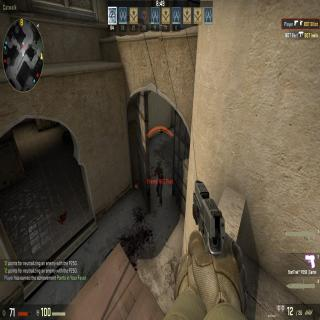T-Body: (154, 159, 164, 205)
T-Head: (157, 160, 161, 168)
